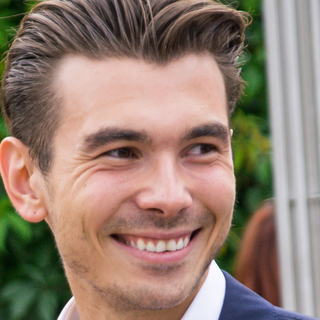eye: (91, 142, 143, 166), (179, 138, 225, 163)
